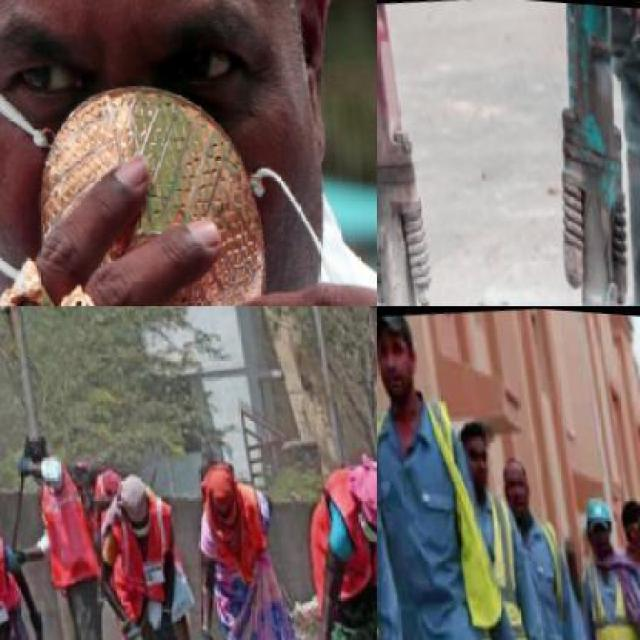Vest: (377, 371, 503, 634), (302, 448, 376, 615), (454, 488, 532, 638), (104, 504, 190, 614), (510, 503, 576, 639), (197, 477, 285, 578), (34, 466, 106, 588), (580, 538, 638, 638), (0, 548, 28, 638)
